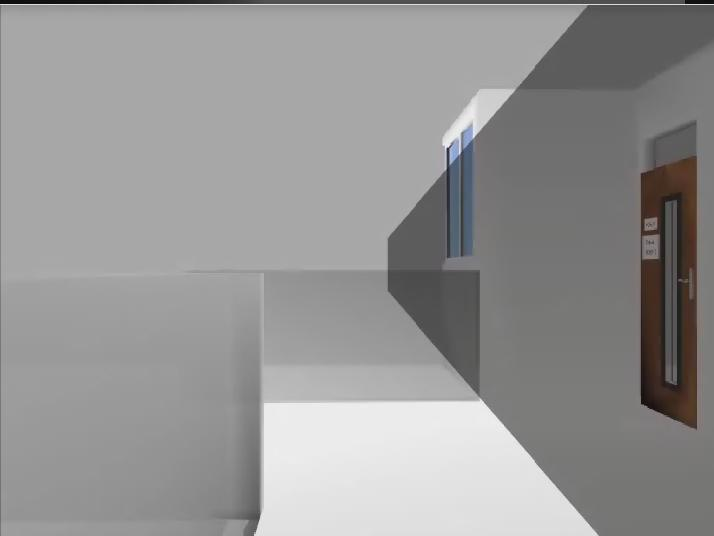door: (642, 157, 697, 430)
